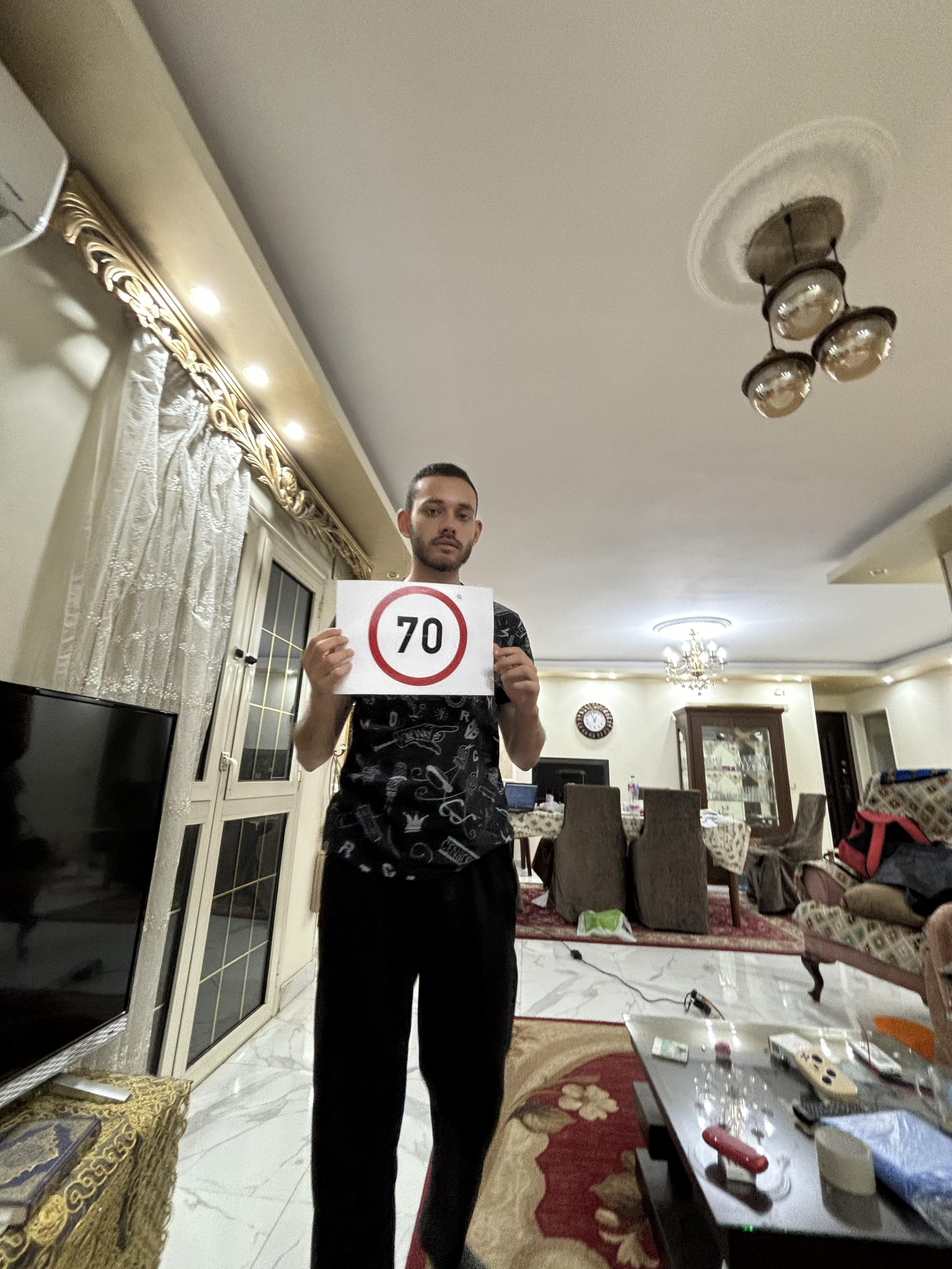70-Speed: (365, 587, 474, 687)
